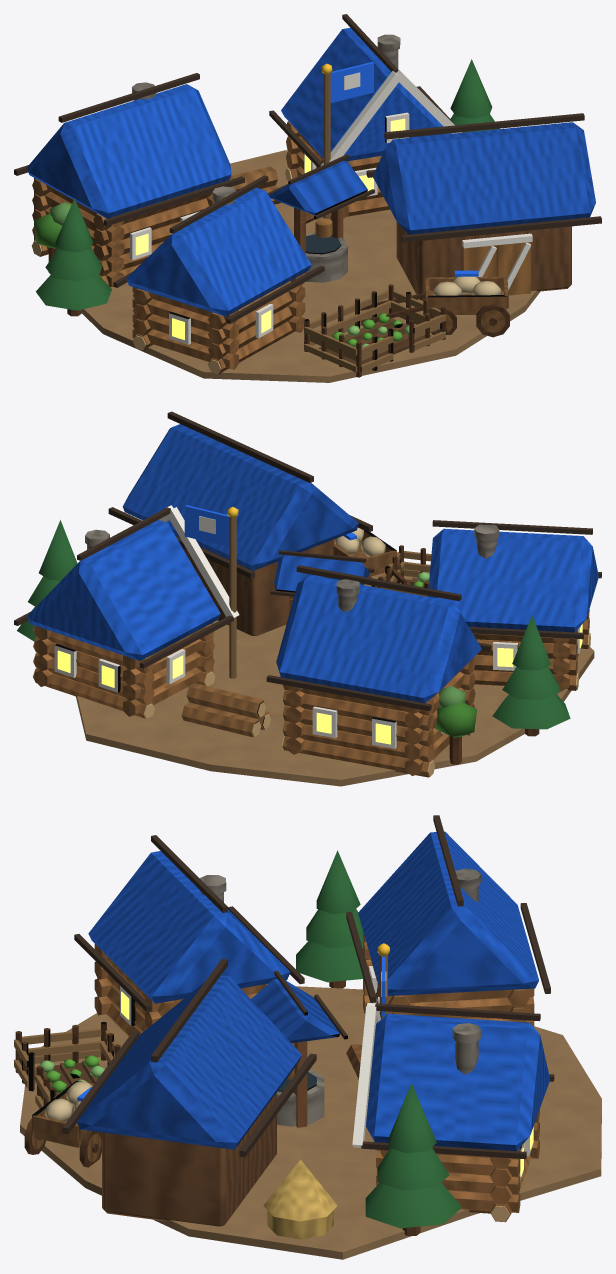
The model's file is city_dl2_blue.glb.
The picture shows the model from 3 angles, top to bottom: view 1: azimuth 30°, elevation 25°; view 2: azimuth 150°, elevation 25°; view 3: azimuth 270°, elevation 25°; orthographic projection. The views are drawn at different scales.
Parts seen in each view (by area): view 1: city_dl2_blue; view 2: city_dl2_blue; view 3: city_dl2_blue.
Part boxes in pixels (x1,y1,x2,y2): city_dl2_blue: (14,14,601,382); city_dl2_blue: (14,411,601,786); city_dl2_blue: (14,815,601,1259).
Size of the model in its own units: 1.47 by 0.486 by 1.27.
Materials: 2 (1 with a texture image).
